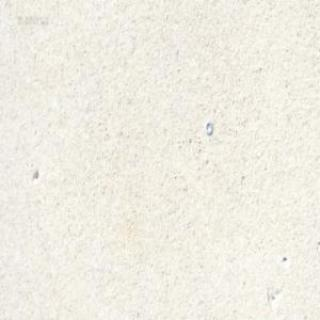Washertrack_idkeyframe: (204, 118, 212, 134)
